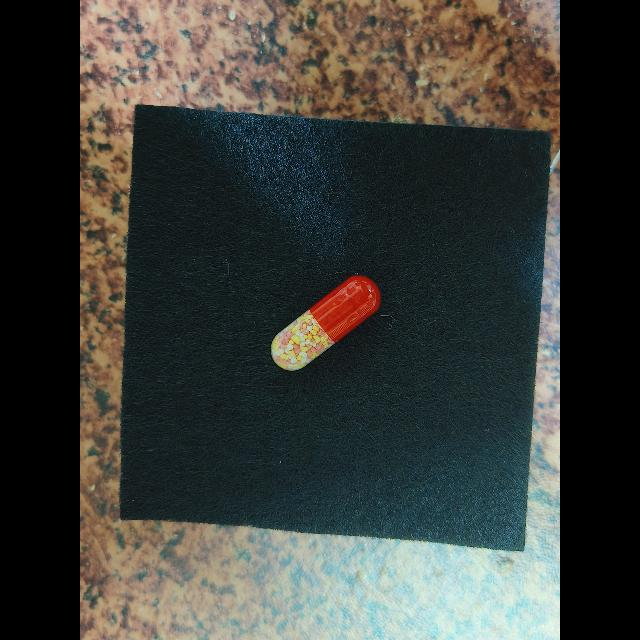Intact Capsule: (271, 275, 381, 371)
